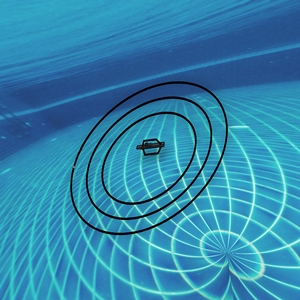circle: (63, 71, 231, 244)
